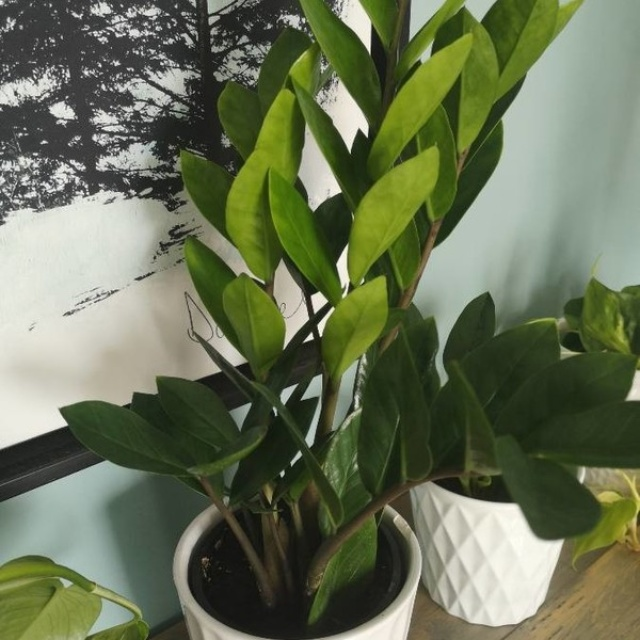obstacle: (124, 51, 426, 622), (412, 287, 613, 627)
